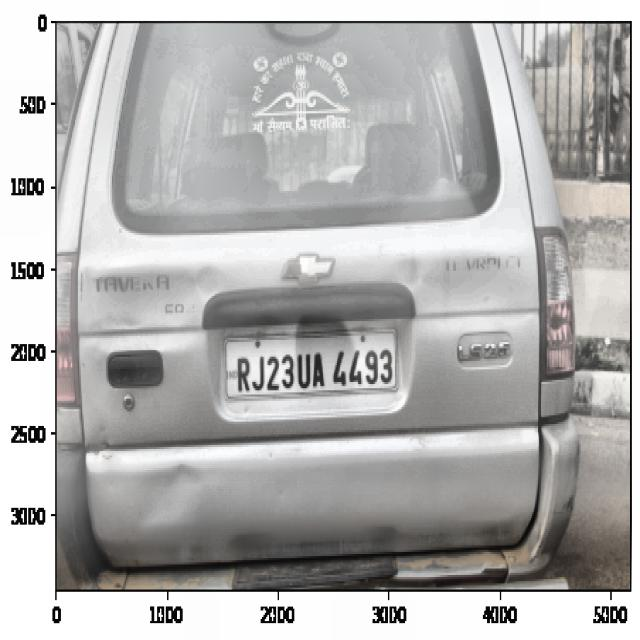license_plate: (233, 339, 399, 397)
